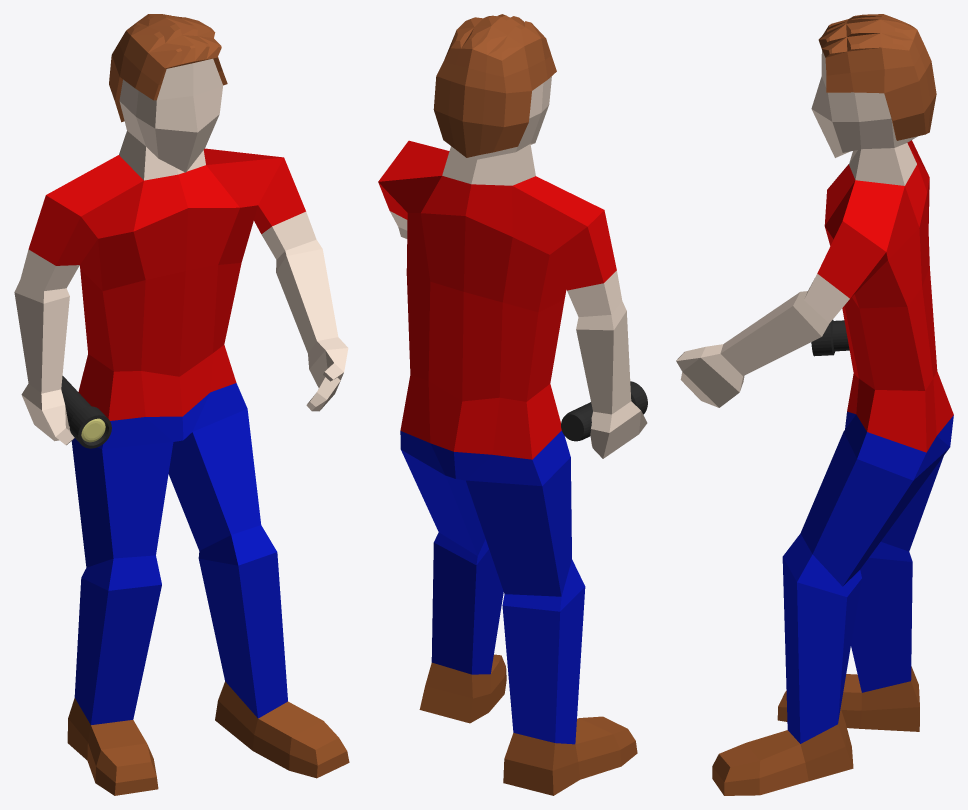
The model's file is Human_grabbing_46.fbx.
The picture shows the model from 3 angles, left to right: view 1: azimuth 30°, elevation 25°; view 2: azimuth 150°, elevation 25°; view 3: azimuth 270°, elevation 25°; orthographic projection. The views are drawn at different scales.
Parts seen in each view (by area): view 1: Person.003, Cylinder.002; view 2: Person.003, Cylinder.002; view 3: Person.003, Cylinder.002.
Boxes of the visible parts, bbox=[...] form: Person.003: bbox=[14, 14, 349, 795]; Cylinder.002: bbox=[61, 376, 111, 448]; Person.003: bbox=[378, 14, 647, 795]; Cylinder.002: bbox=[561, 381, 647, 441]; Person.003: bbox=[676, 14, 953, 795]; Cylinder.002: bbox=[811, 320, 849, 356].
Size of the model in its own units: 0.5762 by 1.57 by 0.5414.
